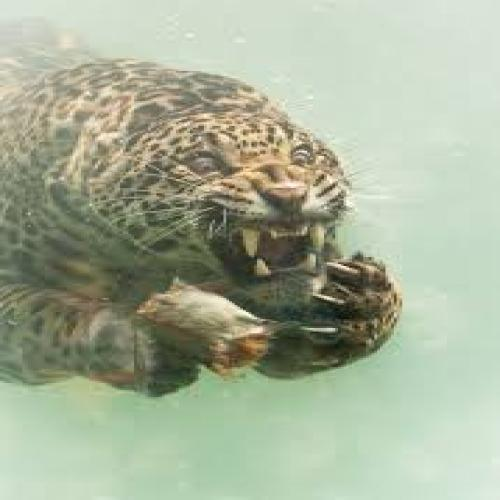jaguar_not-endangered: (0, 30, 400, 391)
